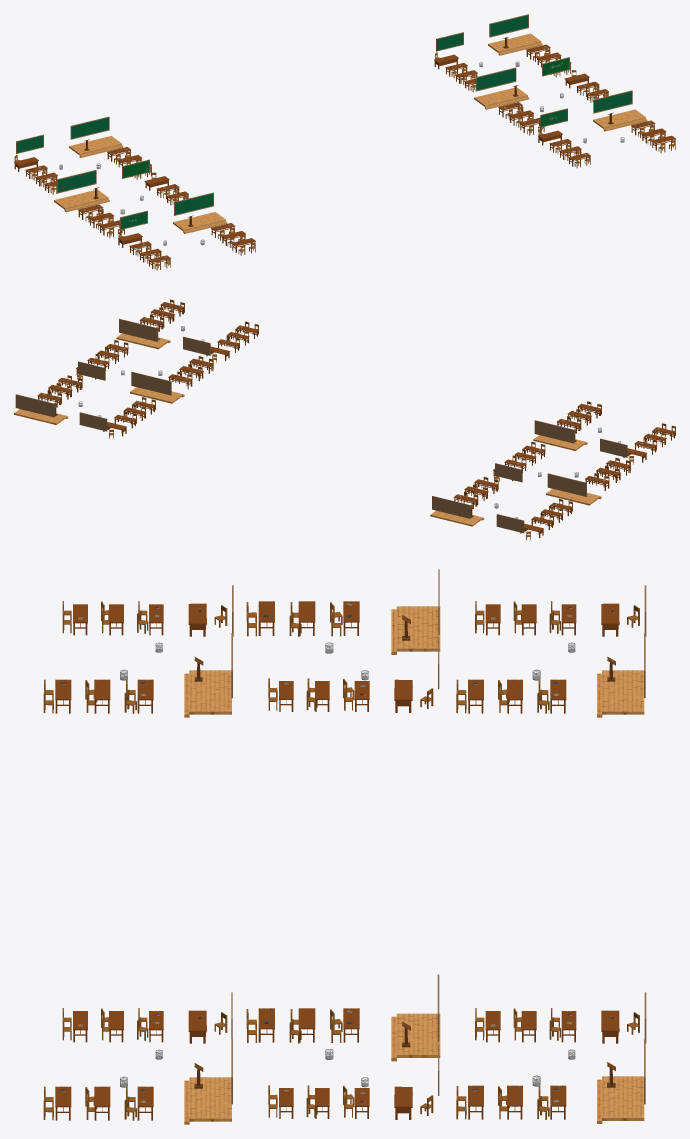
File: SalaAula.fbx
3 renders of one model, top to bottom at view 1: azimuth 30°, elevation 25°; view 2: azimuth 150°, elevation 25°; view 3: azimuth 270°, elevation 25°, orthographic. The views are drawn at different scales.
Visible parts, largest first — view 1: SalaAula; view 2: SalaAula; view 3: SalaAula.
Boxes of the visible parts, left/top/right/bottom form: SalaAula: left=14, top=14, right=675, bottom=270; SalaAula: left=14, top=299, right=675, bottom=540; SalaAula: left=43, top=569, right=646, bottom=1124.
Size of the model in its own units: 1401 by 61.75 by 696.
